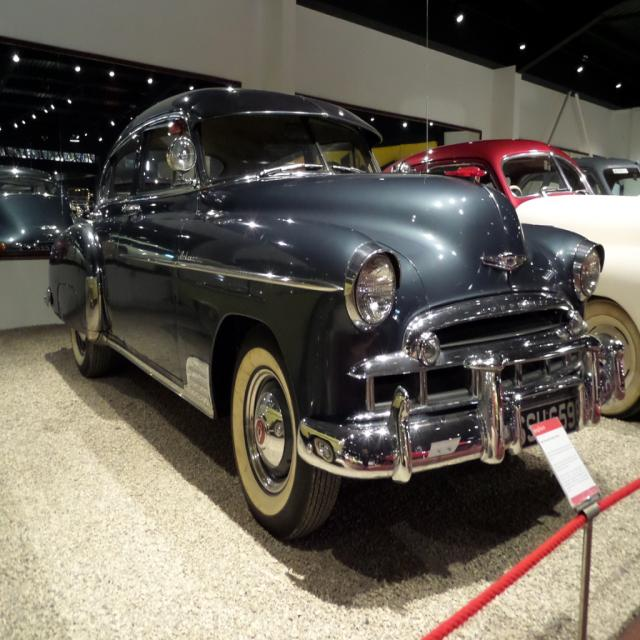car: (39, 82, 630, 566)
